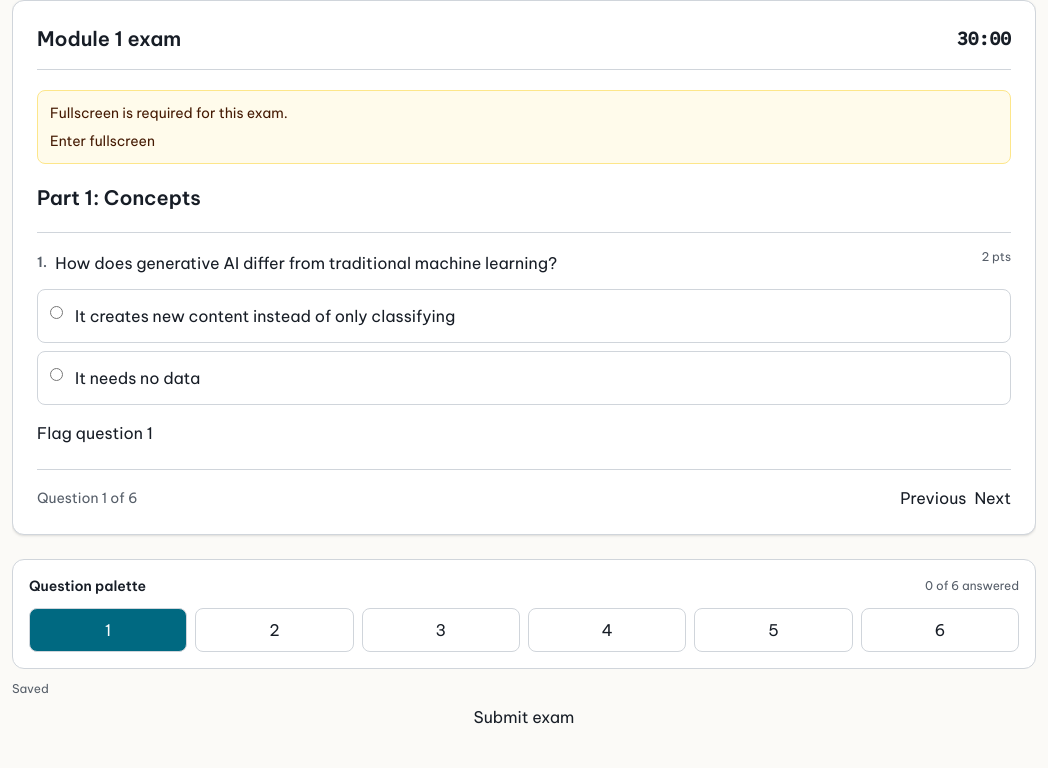
Test case: ExamPlayer › offers a keyboard-operable fullscreen retry when automatic entry is rejected
This screenshot has width=1048, height=768.
Step 1. Click the button "Enter fullscreen" → (102, 141), box 50,131 -> 155,151
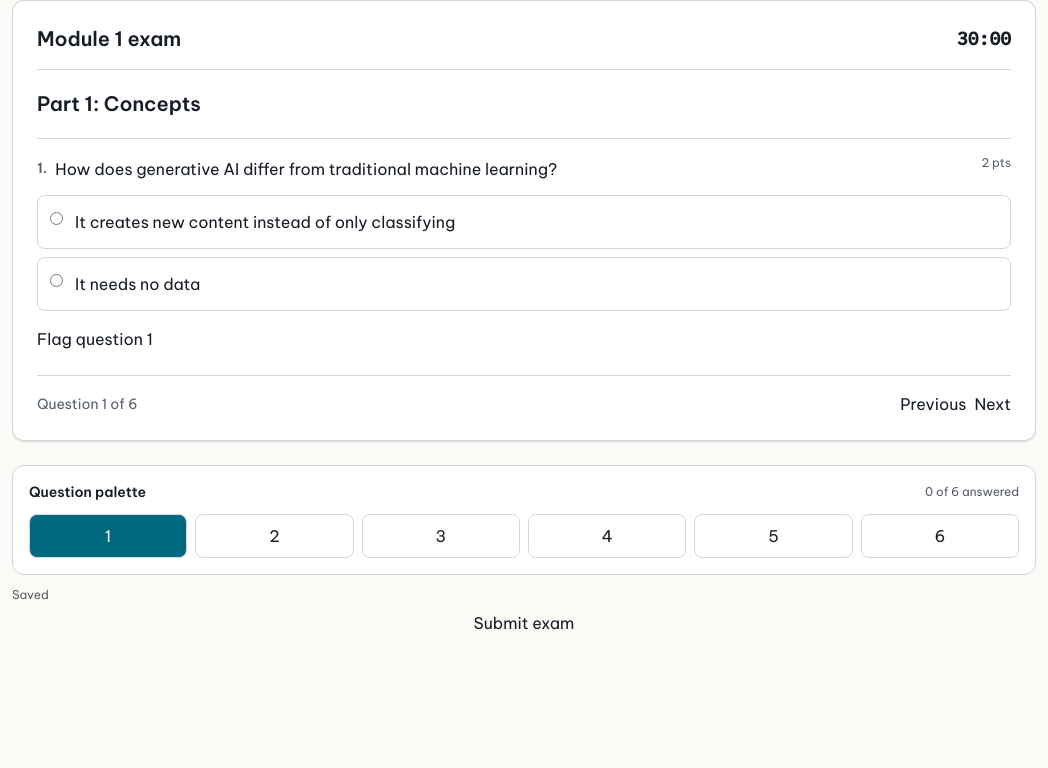
Expected: the button "Enter fullscreen" is gone
